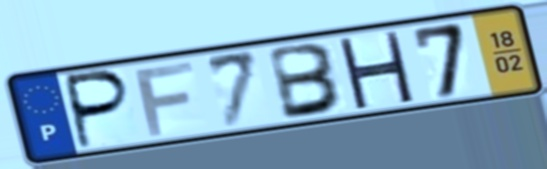7: (204, 46, 261, 132), (410, 20, 468, 101)
B: (266, 40, 348, 123)
F: (131, 58, 198, 139)
H: (334, 30, 417, 110)
P: (65, 68, 136, 152)
